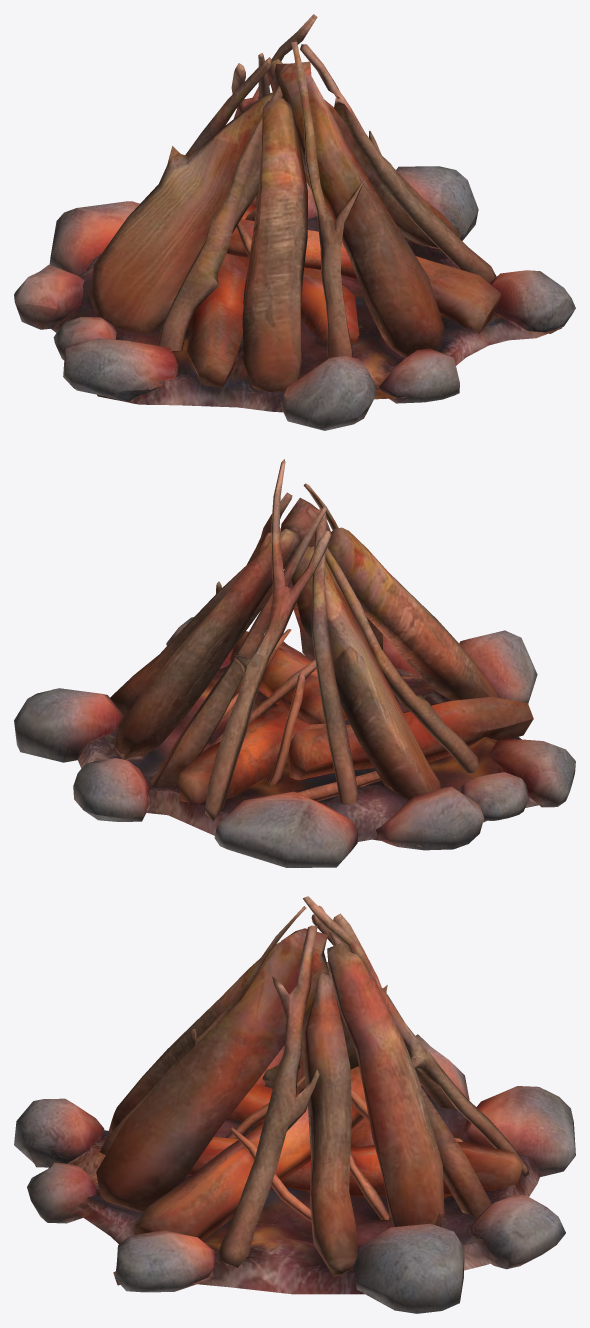
The model's file is Campfire.obj.
3 renders of one model, top to bottom at view 1: azimuth 30°, elevation 25°; view 2: azimuth 150°, elevation 25°; view 3: azimuth 270°, elevation 25°, orthographic. The views are drawn at different scales.
Visible parts, largest first — view 1: Campfire_Mesh; view 2: Campfire_Mesh; view 3: Campfire_Mesh.
Part boxes in pixels (x1,y1,x2,y2): Campfire_Mesh: (14,14,575,430); Campfire_Mesh: (14,459,575,867); Campfire_Mesh: (14,896,575,1313).
Bounding box in the file's own units: 3.92 × 2.4 × 3.76.
Materials: 2 (2 with a texture image).
